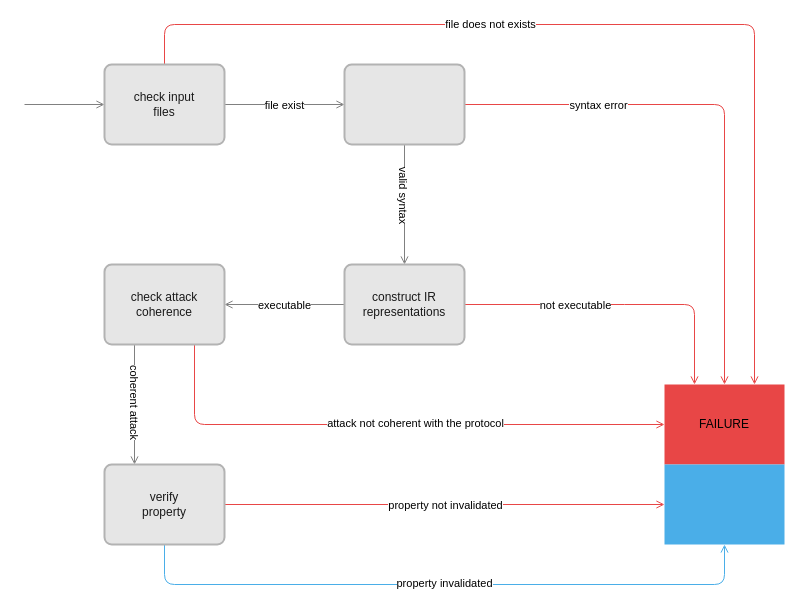
The diagram is 802 pixels wide and 610 high, and some of its shapes have lost their labels. Each missing label, with the centre of its shape:
"COMPLETED" goes at [724,504].
"parse input files" goes at [404,104].
